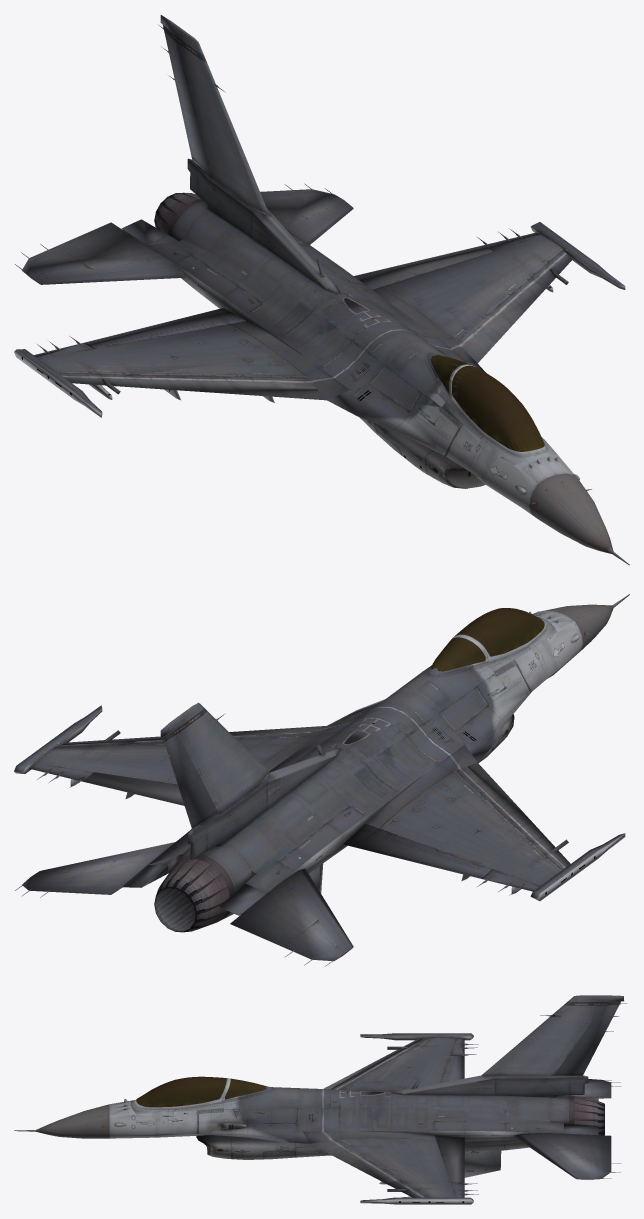
3 views of the same model, one above another, from view 1: azimuth 30°, elevation 25°; view 2: azimuth 150°, elevation 25°; view 3: azimuth 270°, elevation 25° (orthographic). The views are drawn at different scales.
Parts seen in each view (by area): view 1: F_16; view 2: F_16; view 3: F_16.
Boxes of the visible parts, x1,y1,x2,y2 form: F_16: [14, 15, 629, 565]; F_16: [14, 594, 629, 966]; F_16: [14, 995, 626, 1204].
Size of the model in its own units: 9.62 by 4.66 by 15.06.
1 material, 1 textured.
